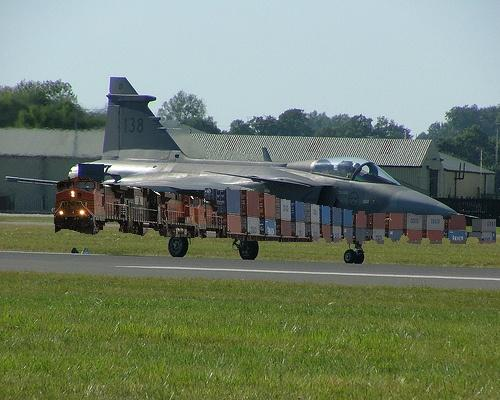tampered: (55, 178, 496, 244)
